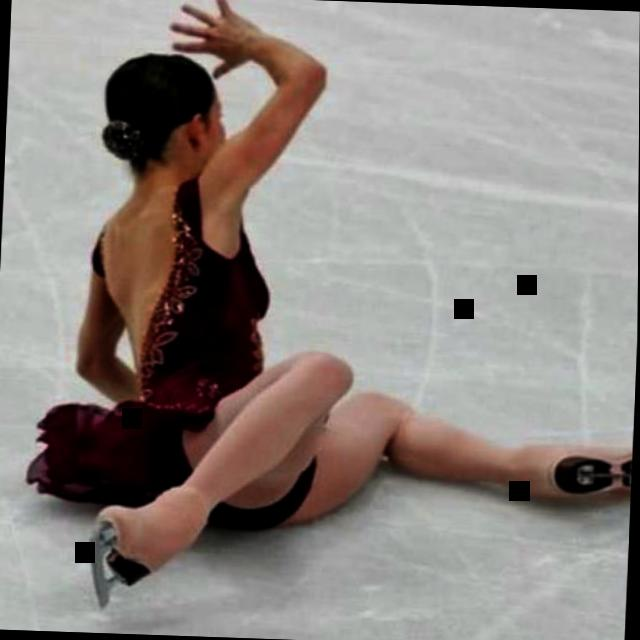Fall-Detected: (29, 0, 640, 594)
